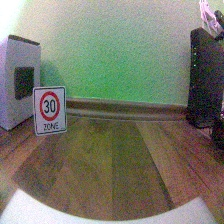dreisiger_zone: (33, 85, 67, 136)
